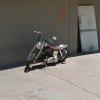Motorcycle: (22, 26, 88, 78)
